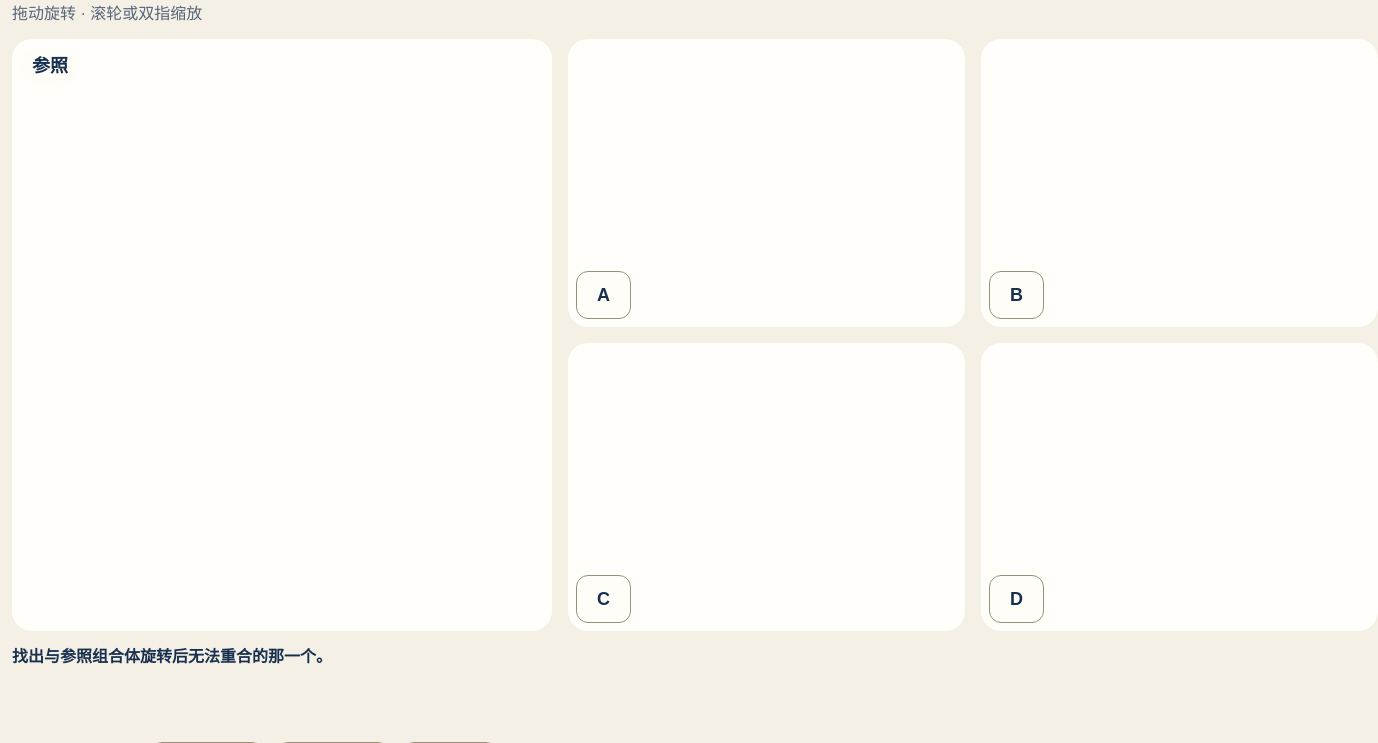
Test case: 组合体找不同 › 选中正确答案显示答对
The image size is (1378, 743).
Click the radio button labelled "A": click(604, 295) top-left (576, 271), bottom-right (631, 319)
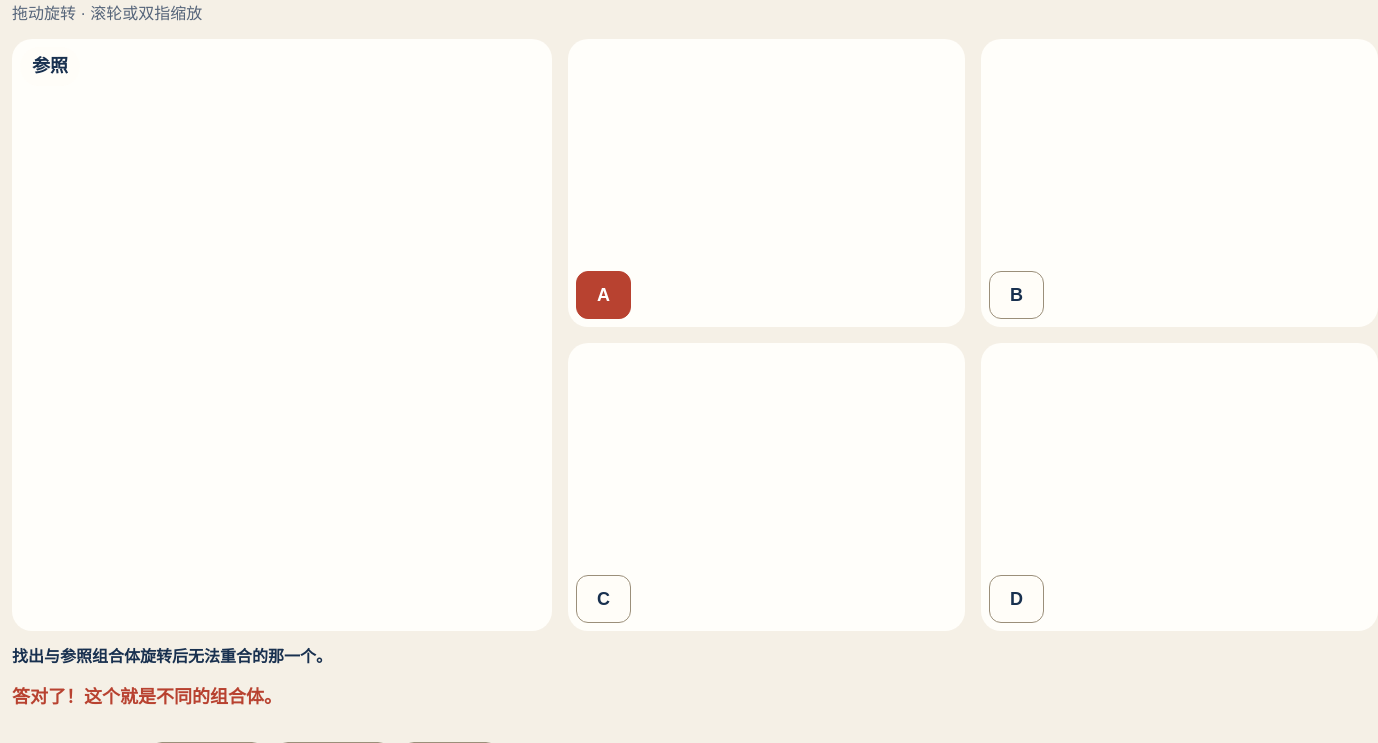
expect the message shows "答对了": met, box top-left (12, 687), bottom-right (282, 707)
